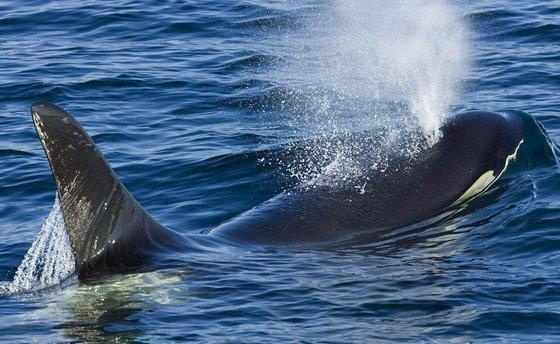fish: (22, 89, 560, 302)
